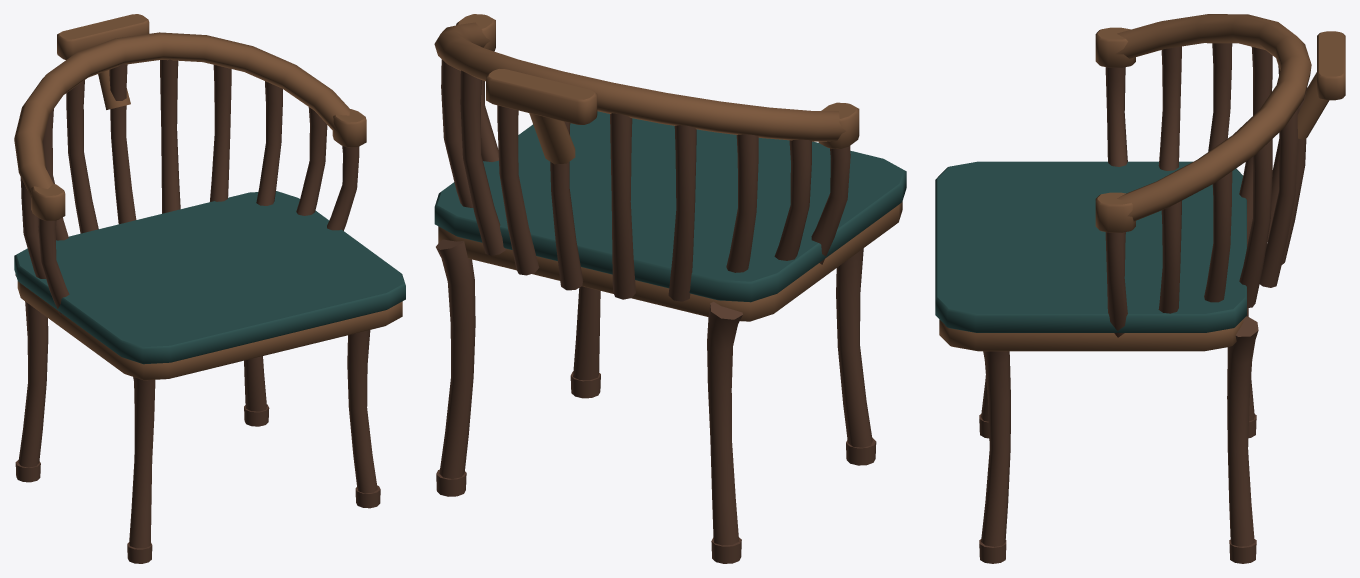
The model's file is rpg-mansion-barrel-arm-01.glb.
3 views of the same model, side by side, from view 1: azimuth 30°, elevation 25°; view 2: azimuth 150°, elevation 25°; view 3: azimuth 270°, elevation 25° (orthographic). The views are drawn at different scales.
Parts seen in each view (by area): view 1: rpg-mansion-barrel-arm-01; view 2: rpg-mansion-barrel-arm-01; view 3: rpg-mansion-barrel-arm-01.
Part boxes in pixels (x1,y1,x2,y2): rpg-mansion-barrel-arm-01: (14,14,405,563); rpg-mansion-barrel-arm-01: (434,14,906,563); rpg-mansion-barrel-arm-01: (935,14,1345,563).
Size of the model in its own units: 0.683 by 0.788 by 0.663.
